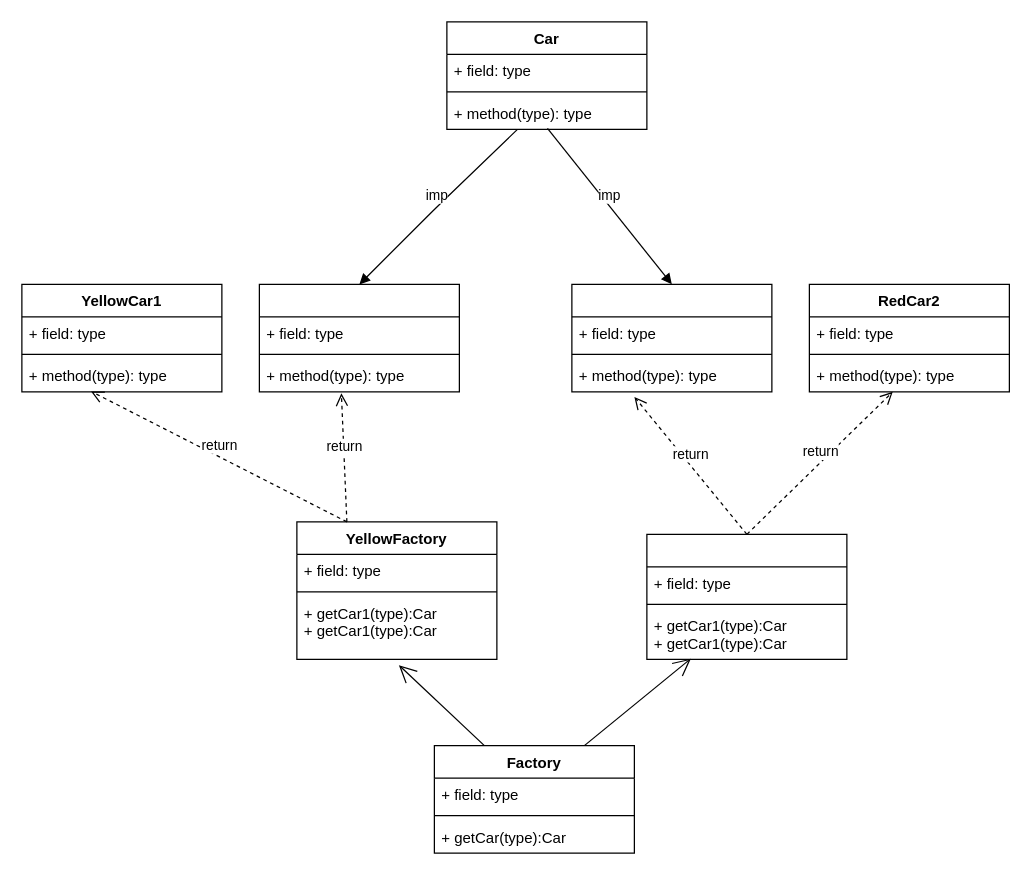
Some shapes in this 1031 by 879 pixel diagram are drawn without their labels. Each missing label, with the box of its shape:
RedCar1: (571, 283, 772, 392)
RedFactory: (646, 533, 847, 659)
YellowCar2: (258, 283, 459, 392)
